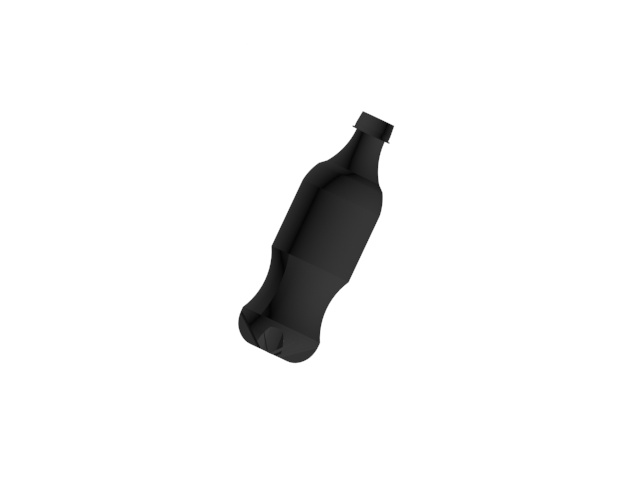bottle: (233, 105, 400, 368)
